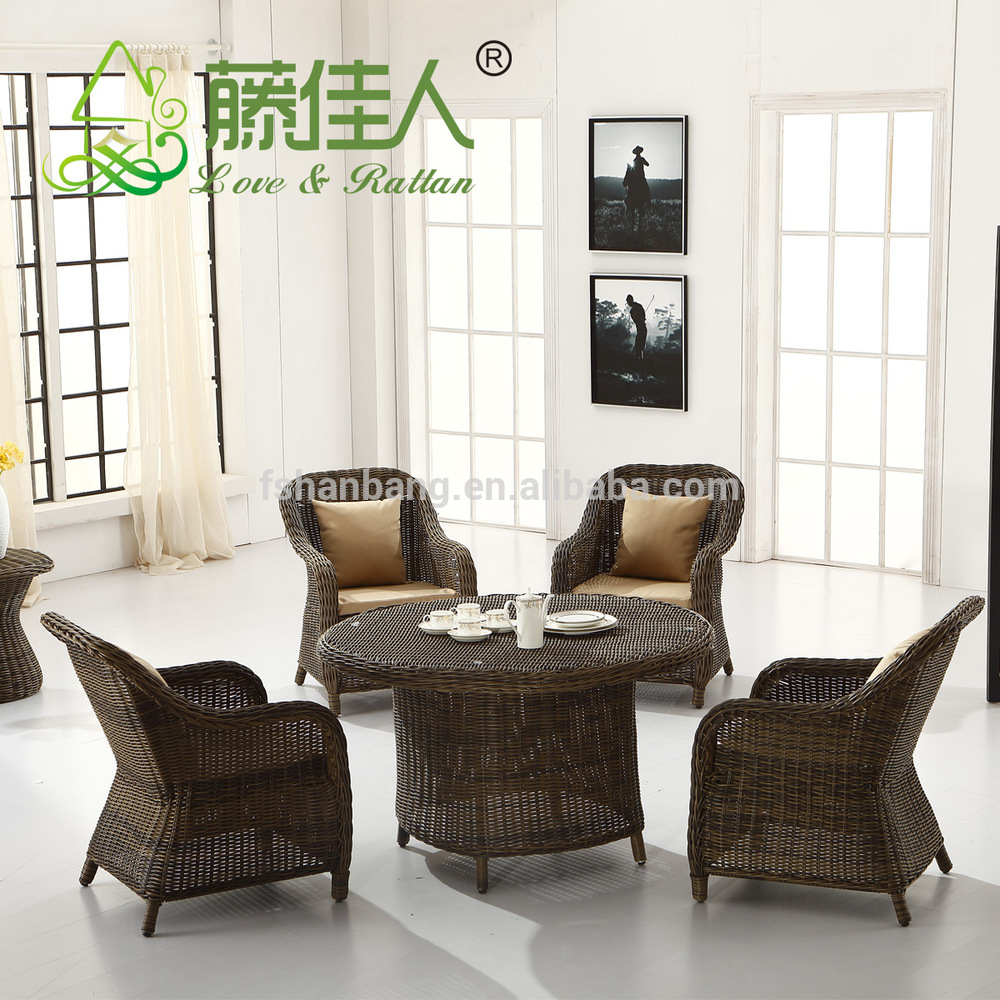bantal: (315, 501, 411, 585), (617, 490, 702, 578)
gelas: (422, 608, 455, 634)
kursi: (34, 619, 367, 913), (697, 590, 984, 915), (281, 461, 475, 618), (545, 458, 736, 613)
lukisan: (581, 108, 695, 258), (585, 272, 692, 413)
meja: (349, 587, 667, 874)
tanaman: (453, 617, 486, 642)
